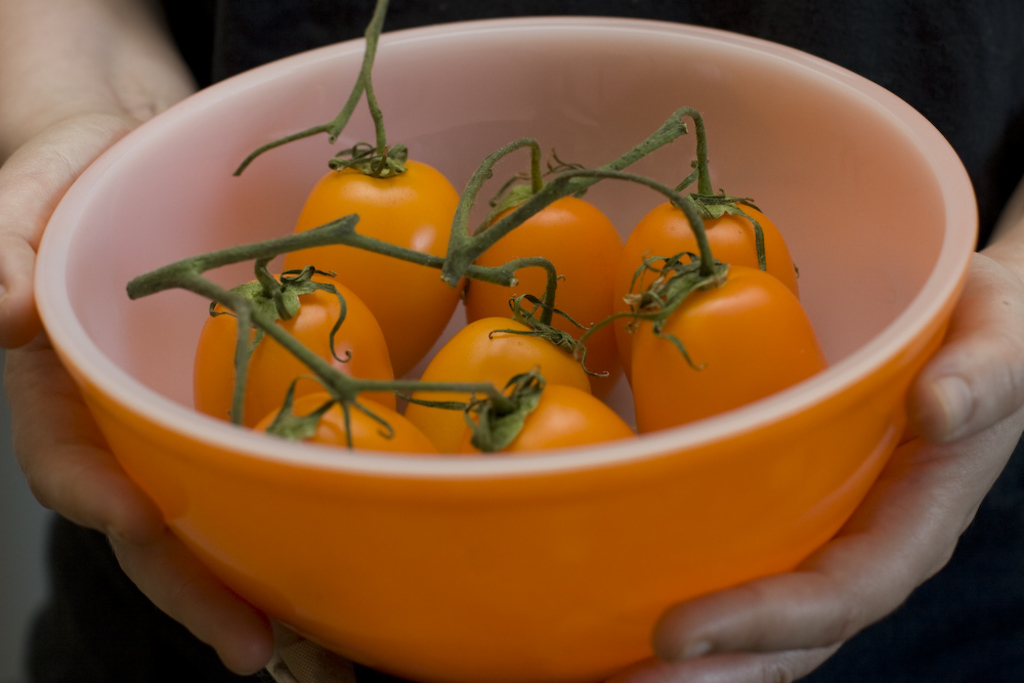Tomato: (191, 155, 825, 457)
